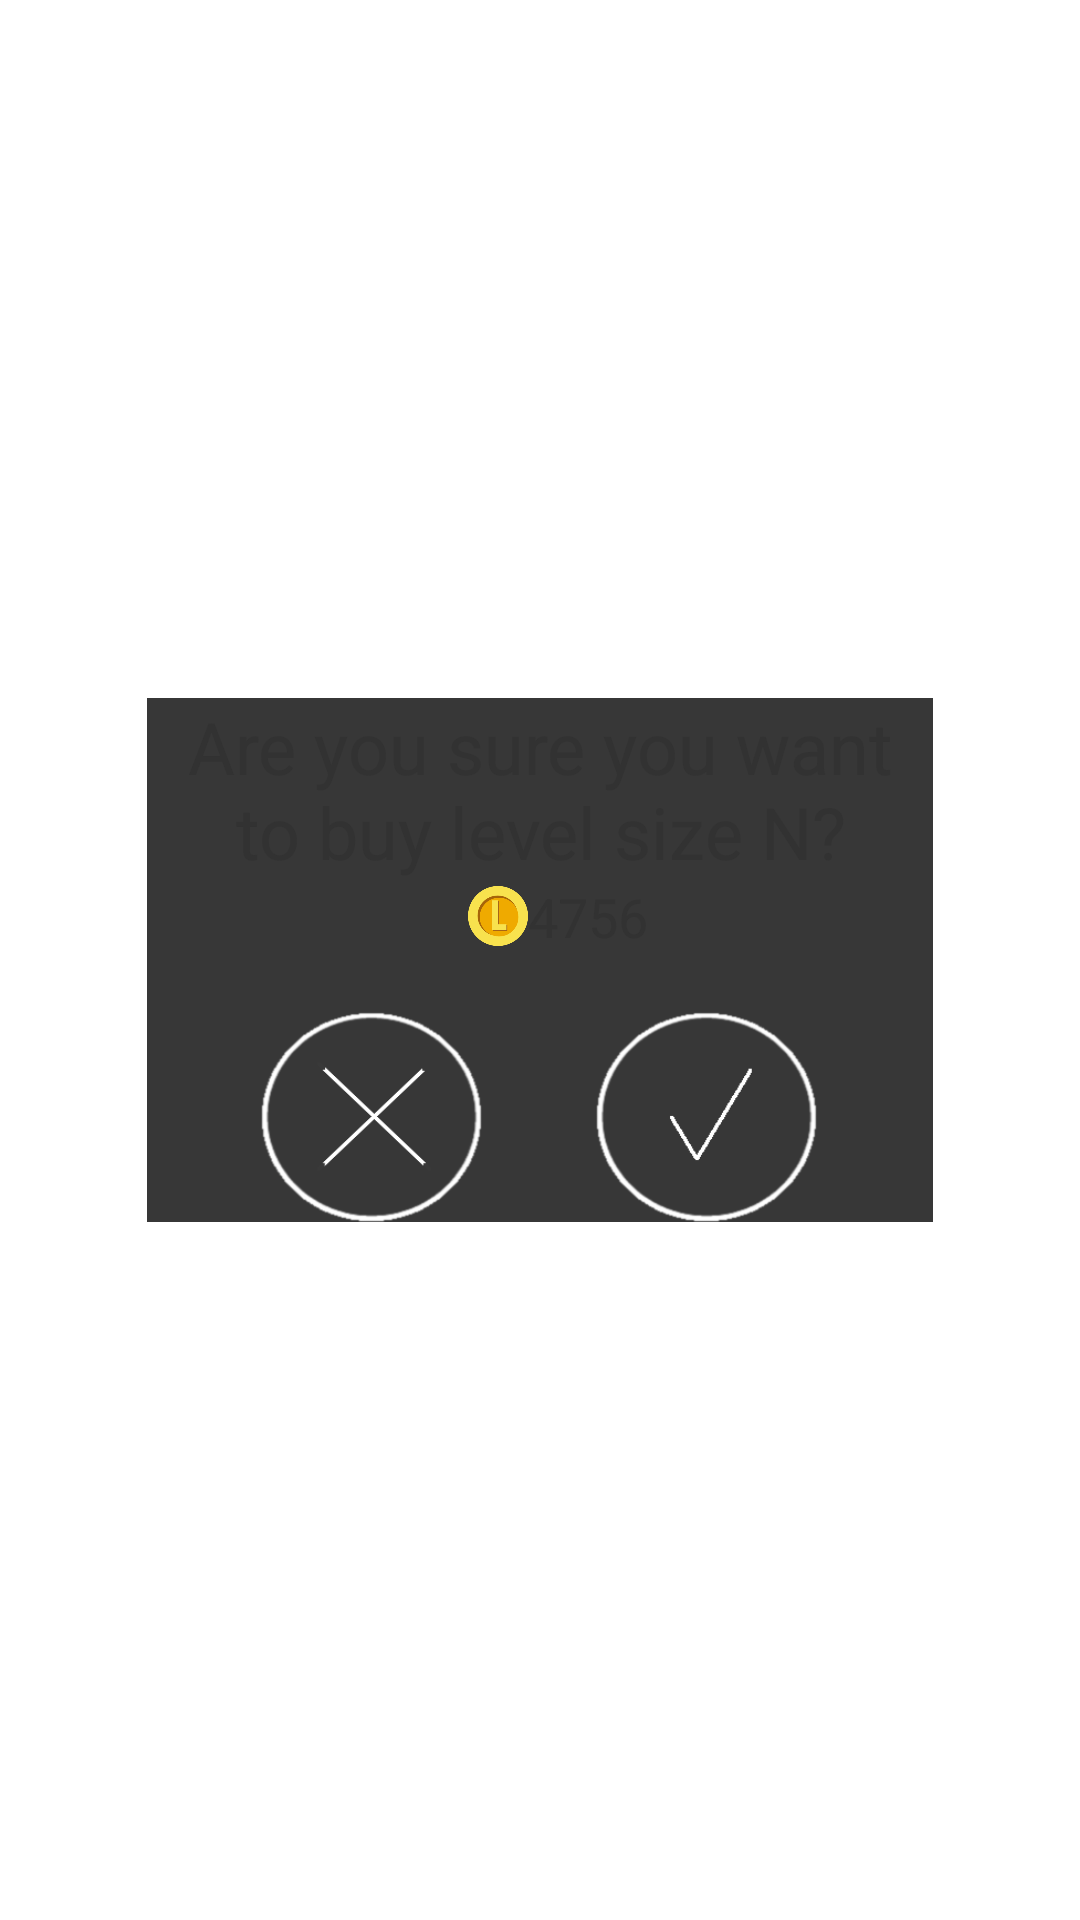

Named icons in this screenshot (1080*1920) and their centers, [x,y]:
coin anim: [498,916]
